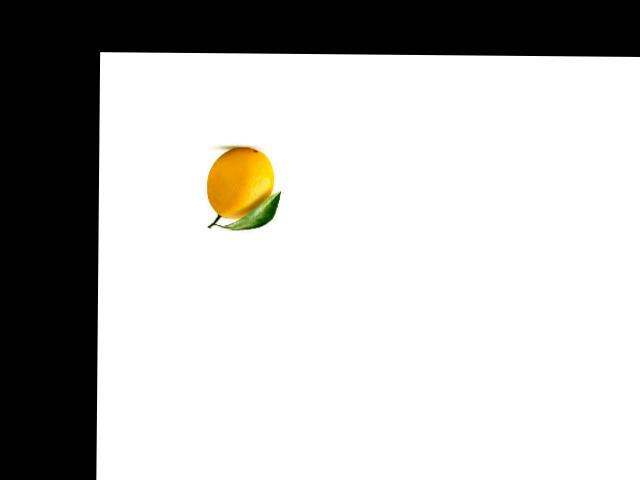lemon: (203, 144, 278, 228)
